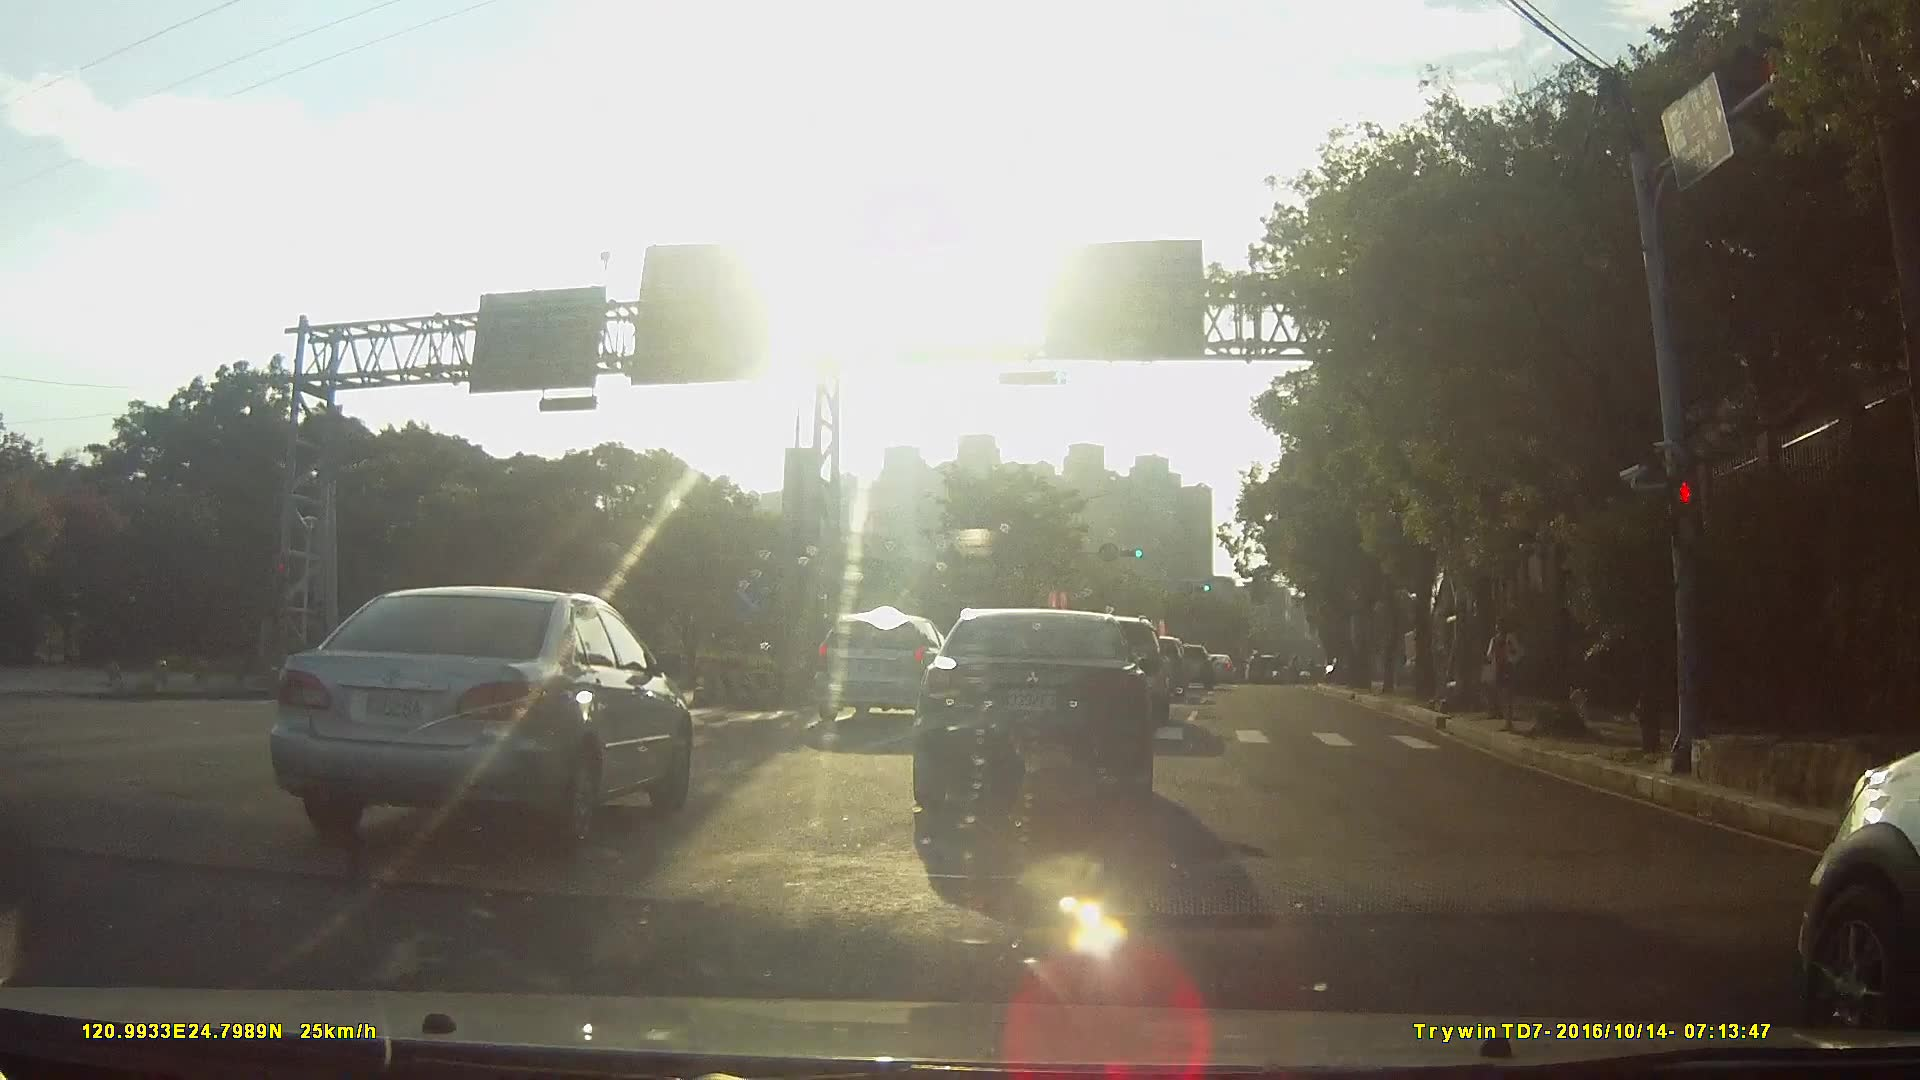pedestrian: (1478, 617, 1530, 730)
vehicle: (245, 579, 692, 851), (1734, 677, 1920, 1042), (895, 607, 1165, 817), (805, 608, 950, 721), (1160, 640, 1207, 687), (1196, 650, 1231, 678)
